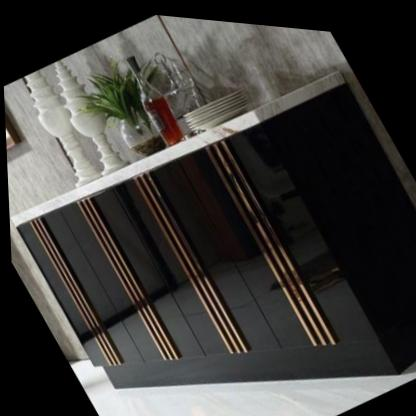Sideboard: (15, 63, 416, 387)
